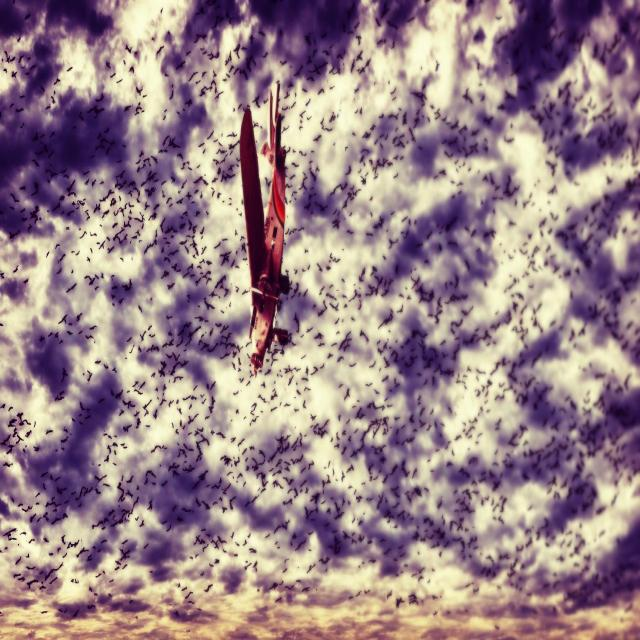airplane: (239, 79, 290, 377)
